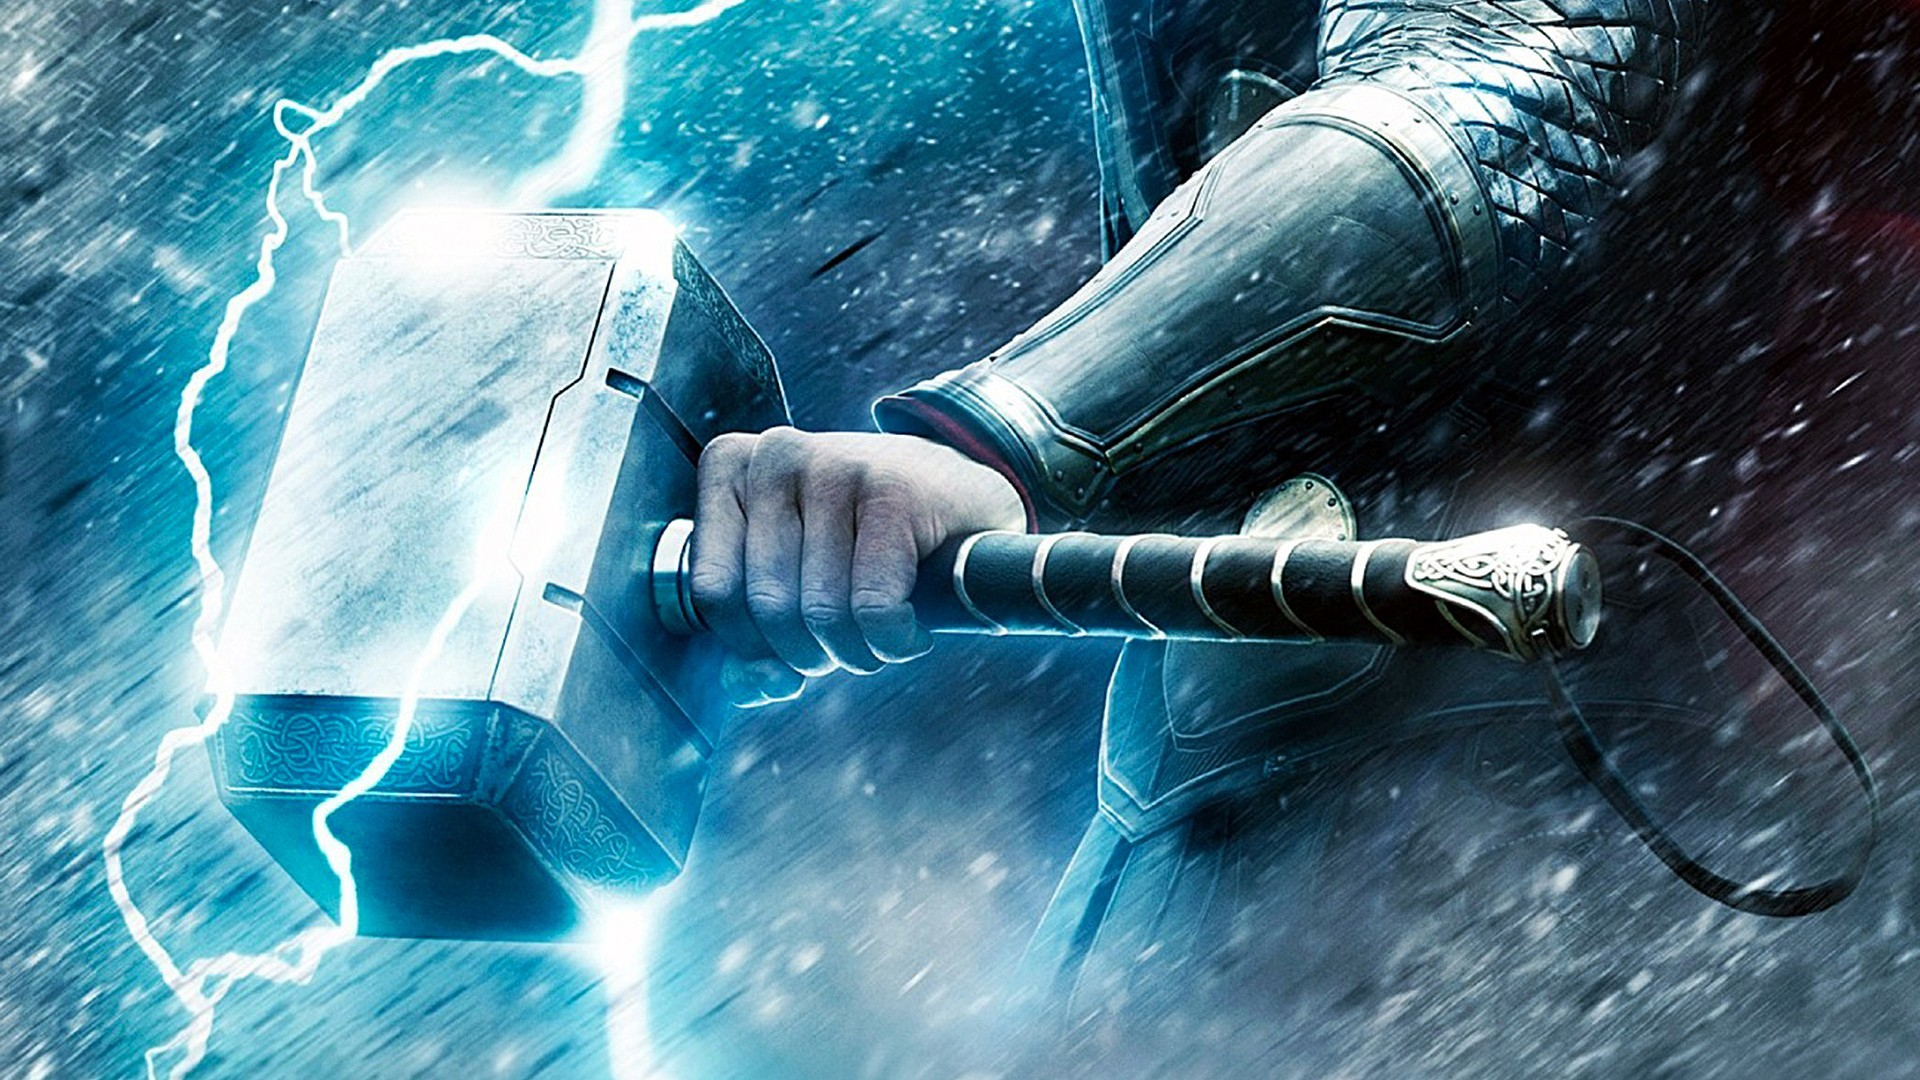THOR Hammer: (257, 181, 1681, 909)
